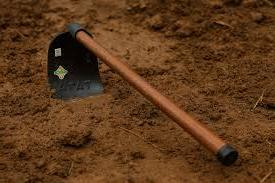HOUE: (8, 13, 240, 167)
